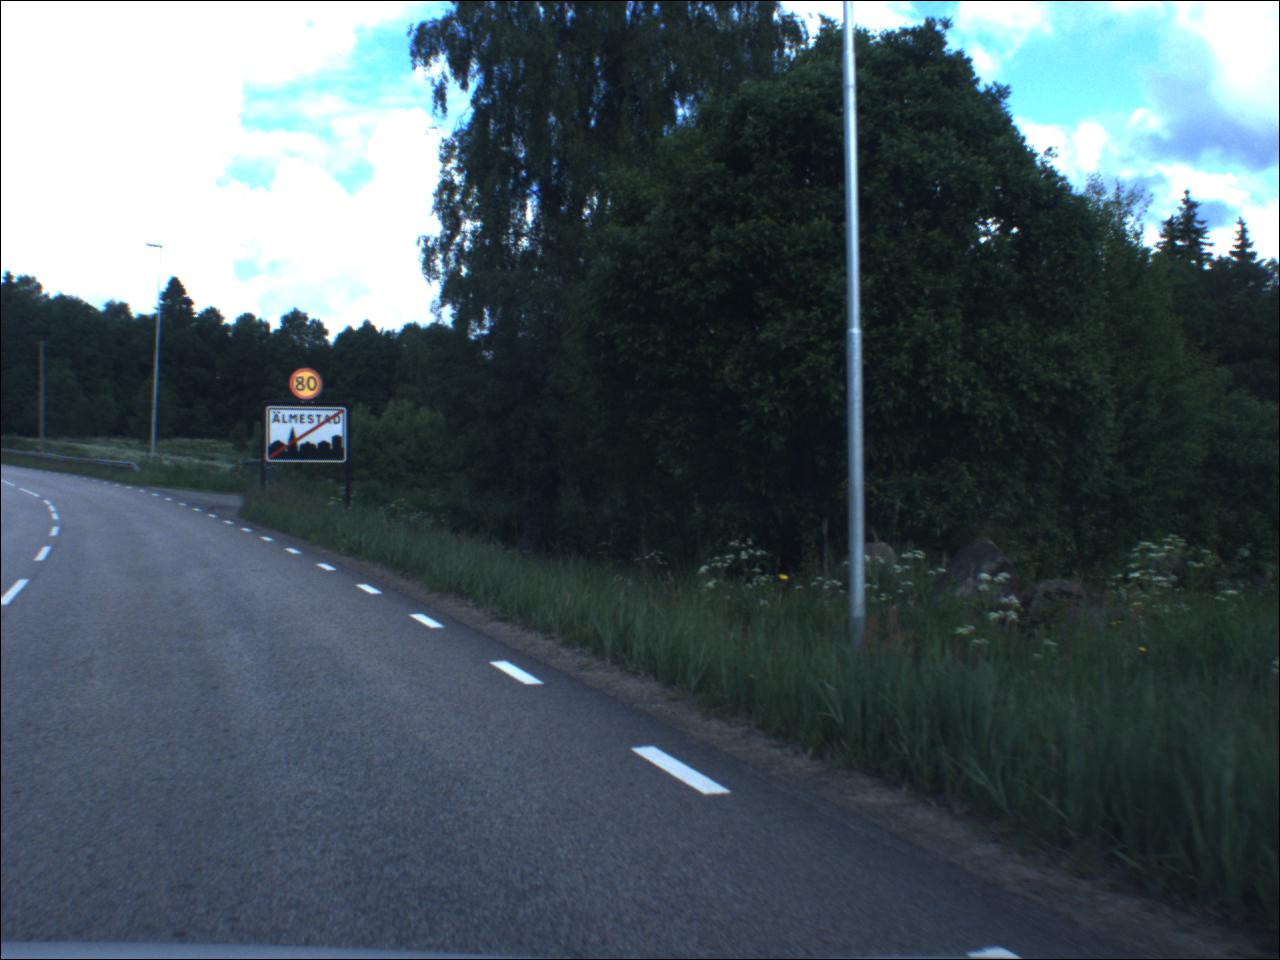80_SIGN: (291, 369, 328, 403)
